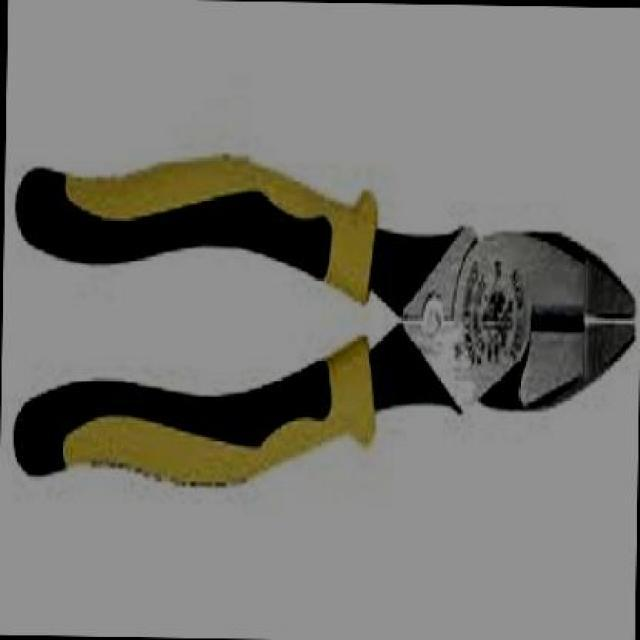pliers: (3, 123, 639, 506)
